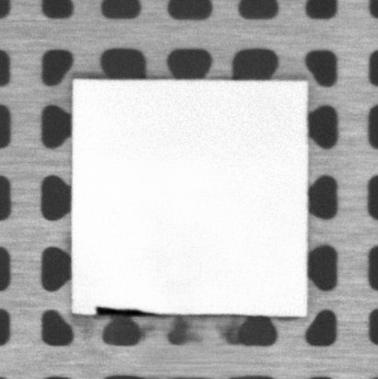DIE_BROKEN: (93, 305, 161, 317)
